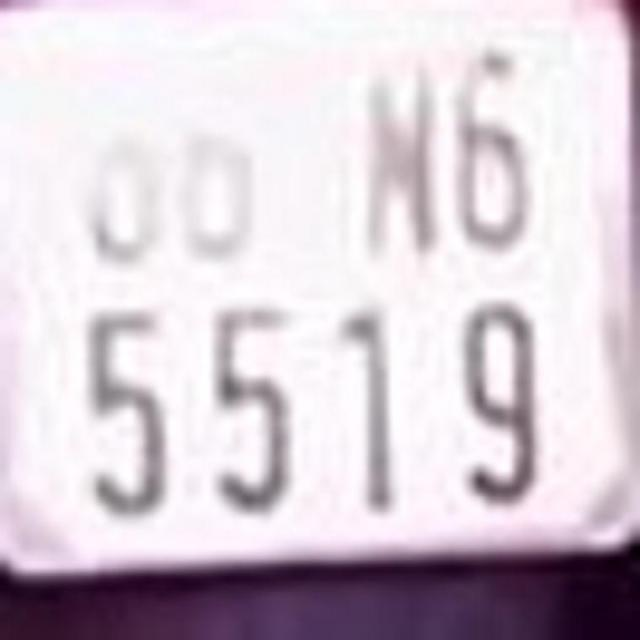1: (332, 297, 405, 513)
5: (84, 298, 168, 527), (212, 299, 298, 520)
6: (452, 44, 528, 252)
9: (457, 296, 542, 512)
N: (362, 61, 444, 260)
